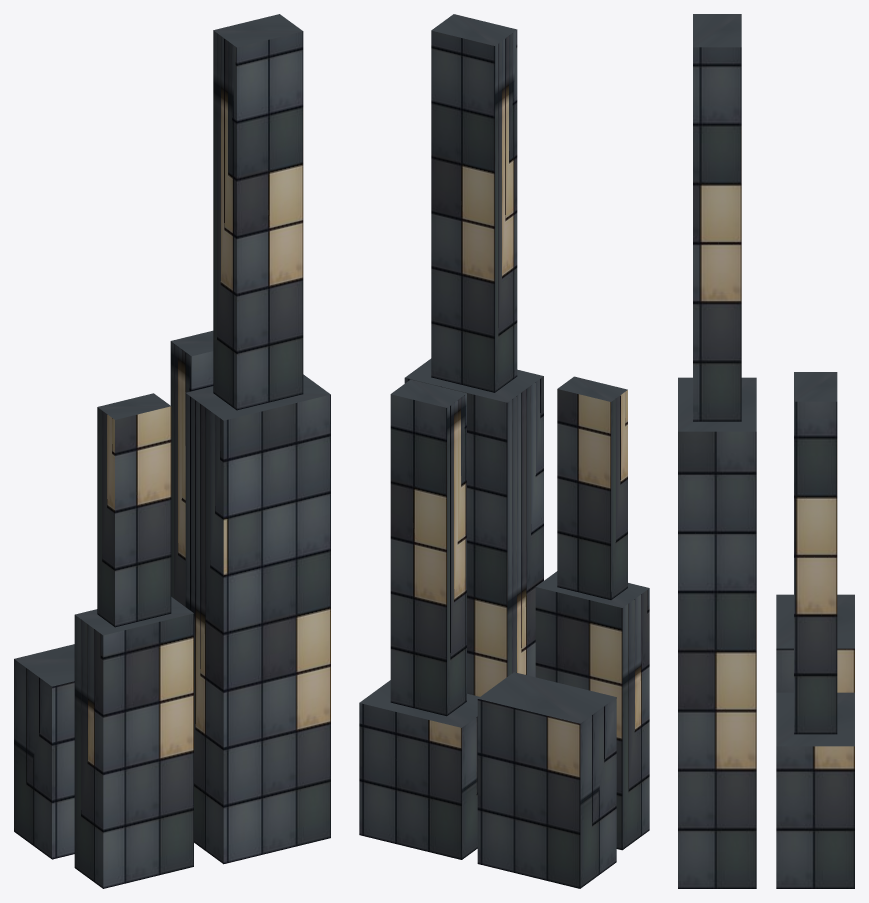
The model's file is block_33.obj.
3 views of the same model, side by side, from view 1: azimuth 30°, elevation 25°; view 2: azimuth 150°, elevation 25°; view 3: azimuth 270°, elevation 25° (orthographic). The views are drawn at different scales.
Parts seen in each view (by area): view 1: b3, b1, b0, b2; view 2: b3, b2, b1, b0; view 3: b3, b2, b0.
Part boxes in pixels (<box>): b3: <box>185,14,330,864</box>; b1: <box>74,393,193,888</box>; b0: <box>14,644,74,859</box>; b2: <box>170,330,213,606</box>; b3: <box>404,14,543,696</box>; b2: <box>359,379,479,859</box>; b1: <box>535,376,649,850</box>; b0: <box>477,672,616,888</box>; b3: <box>678,14,756,888</box>; b2: <box>776,372,854,888</box>; b0: <box>776,594,854,692</box>.
Bounding box in the file's own units: 4.2 × 14 × 2.7.
